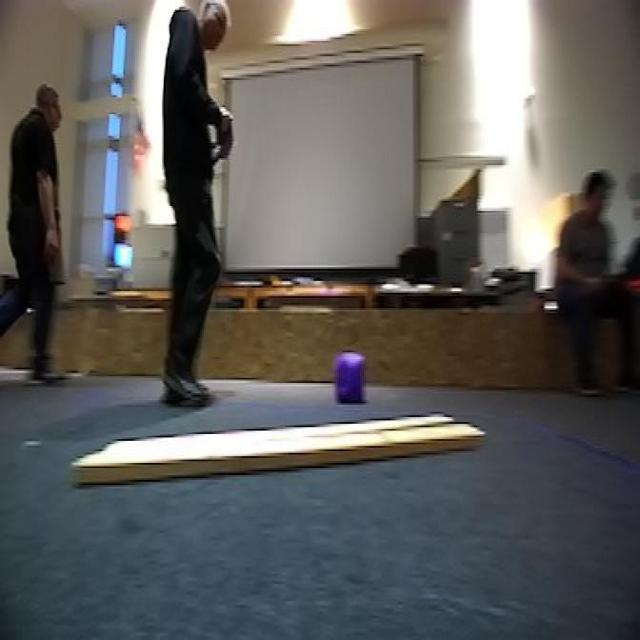frc_cube: (332, 356, 368, 403)
